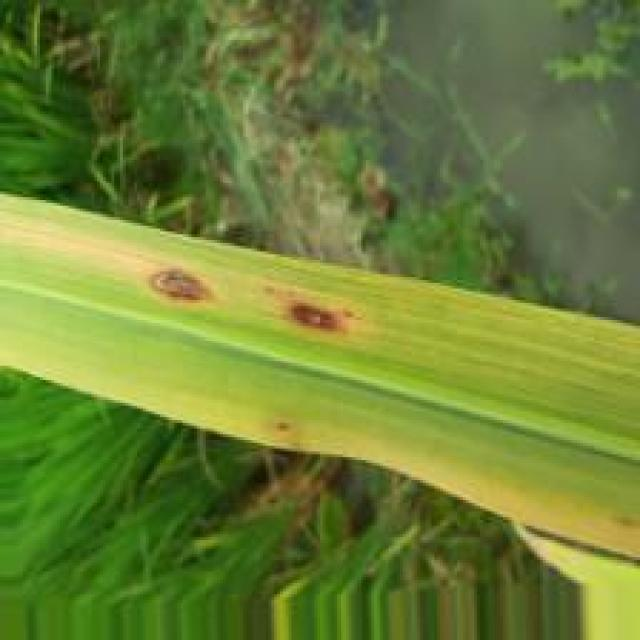Brown_Spot: (146, 273, 219, 321), (283, 297, 350, 339)
